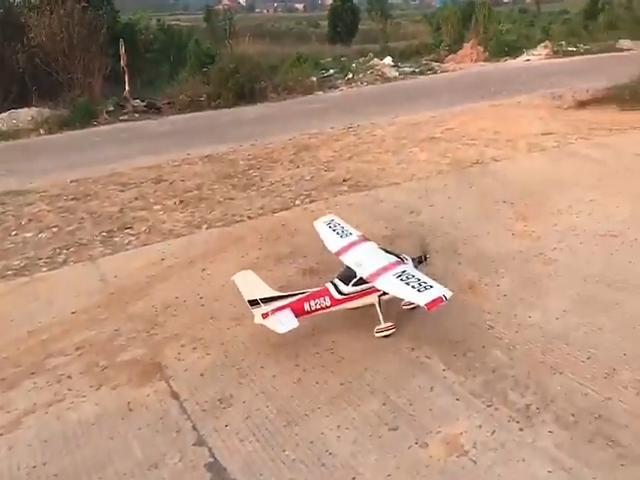plane: (232, 215, 451, 338)
